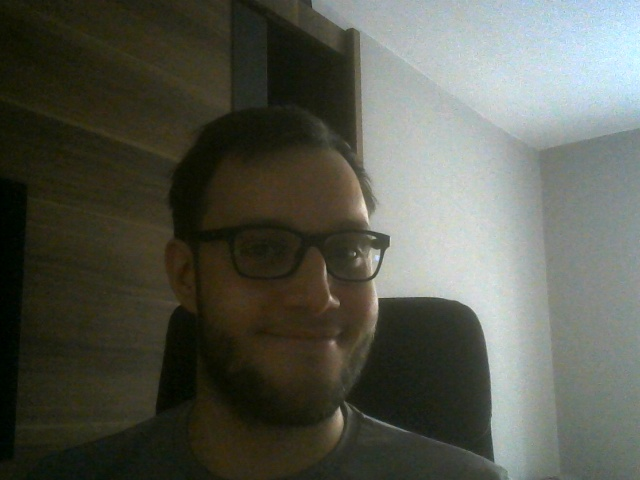happy: (165, 103, 392, 425)
